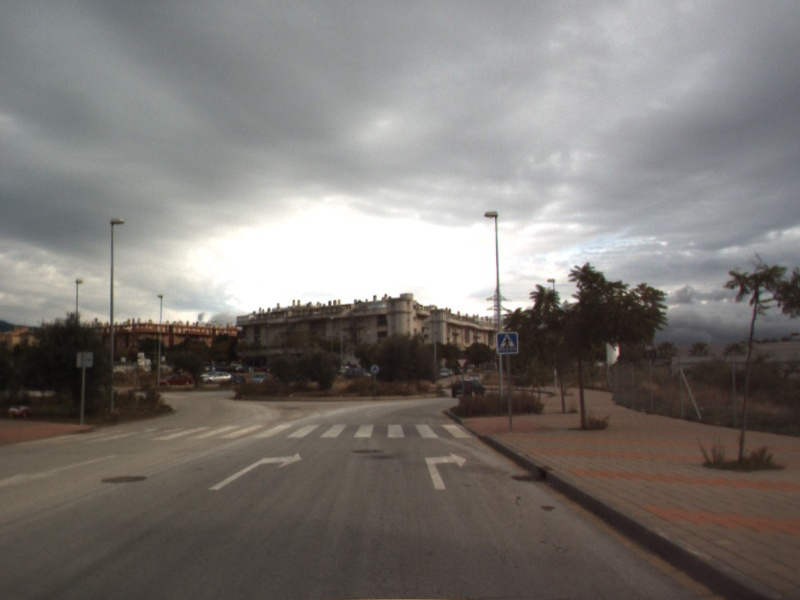RIGHT: (207, 450, 305, 492), (423, 450, 469, 492)
